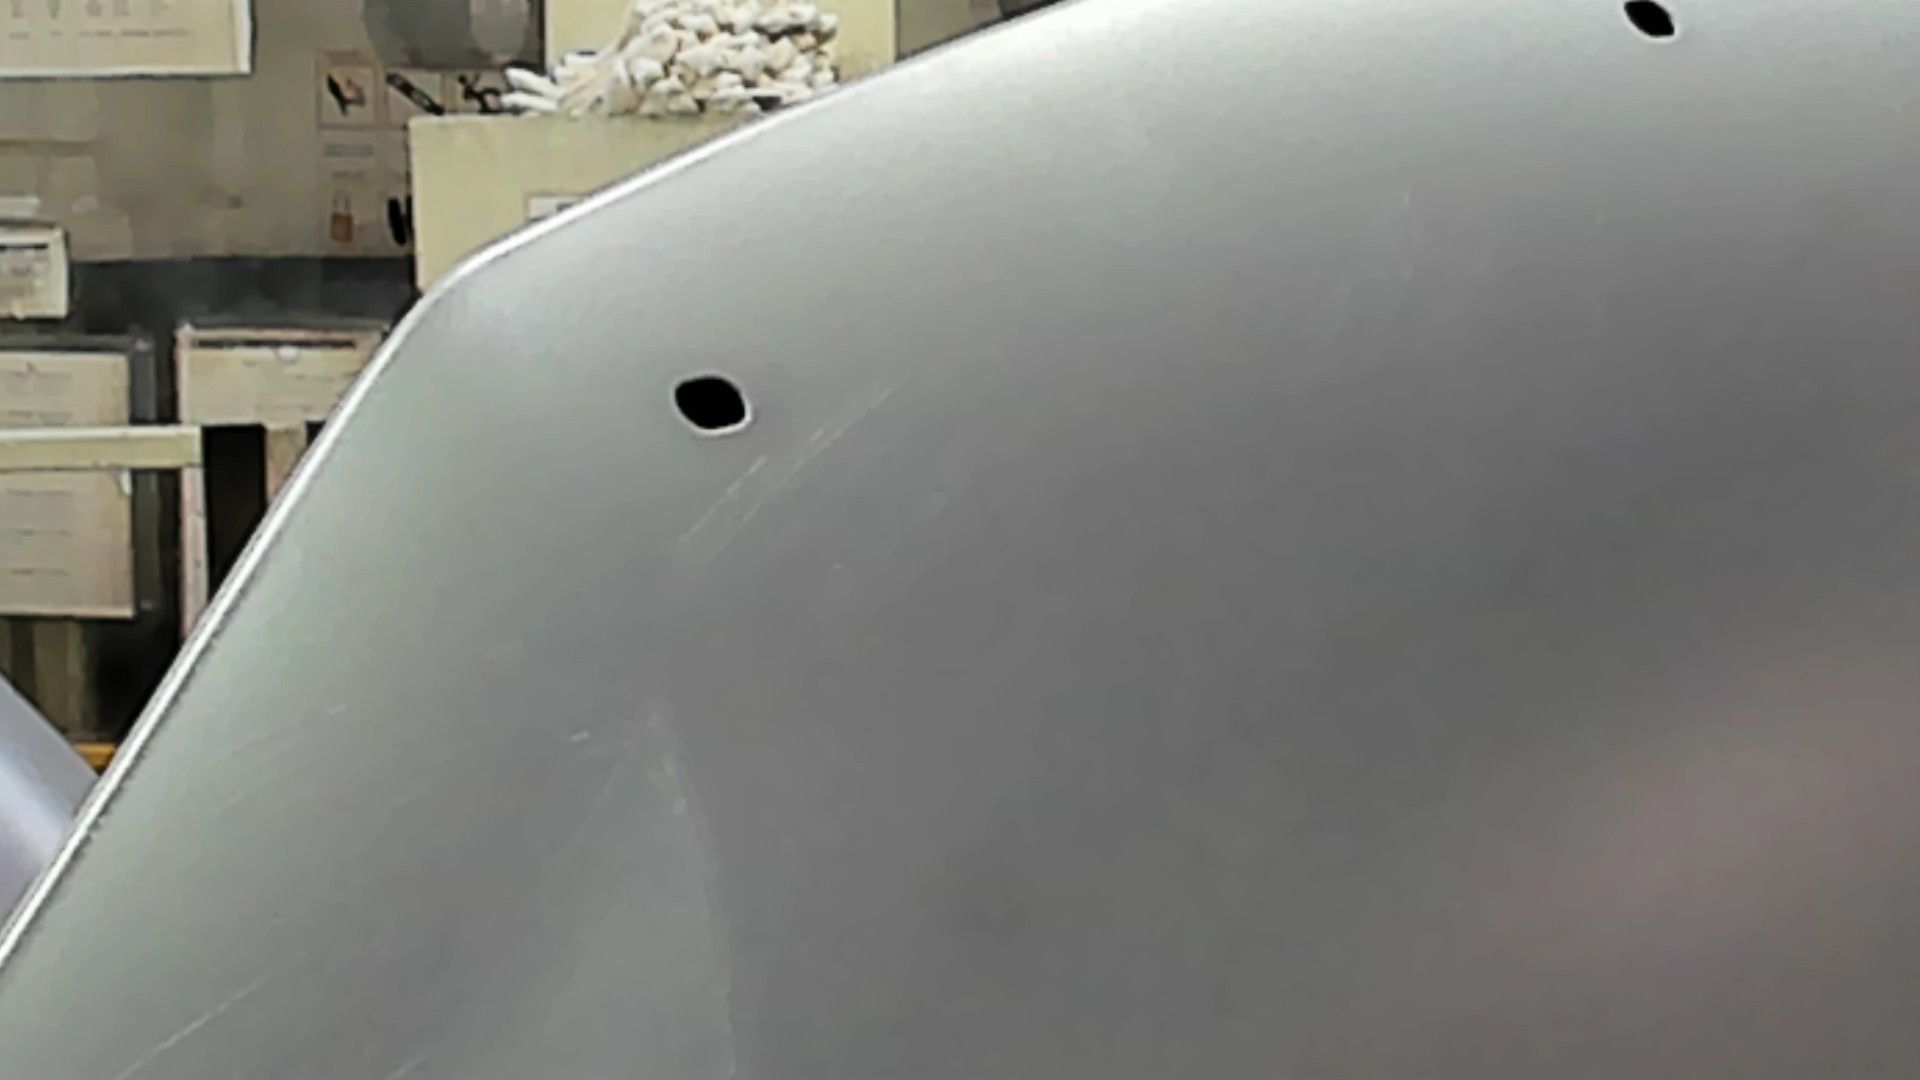amorfo: (671, 369, 760, 438), (1618, 1, 1679, 50)
